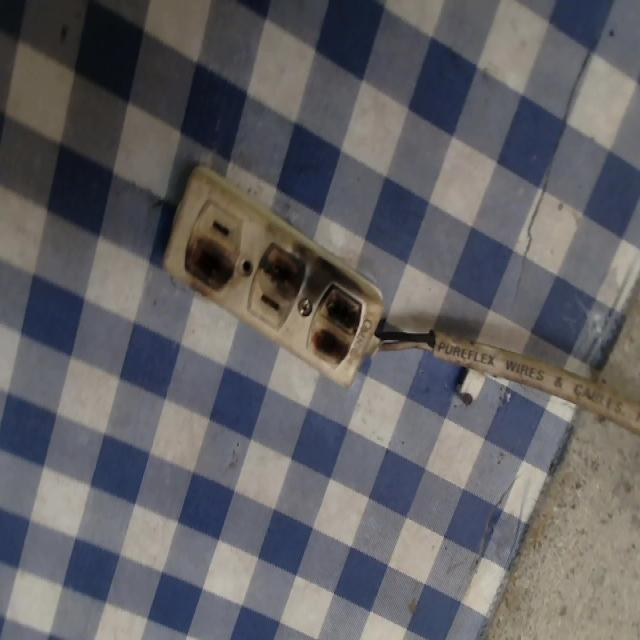-: (308, 271, 362, 373), (178, 235, 239, 296), (254, 229, 306, 295)
